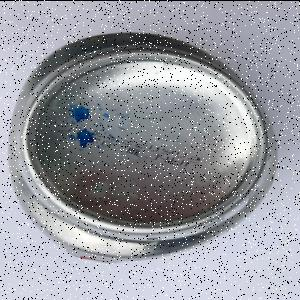Can: (7, 32, 279, 264)
